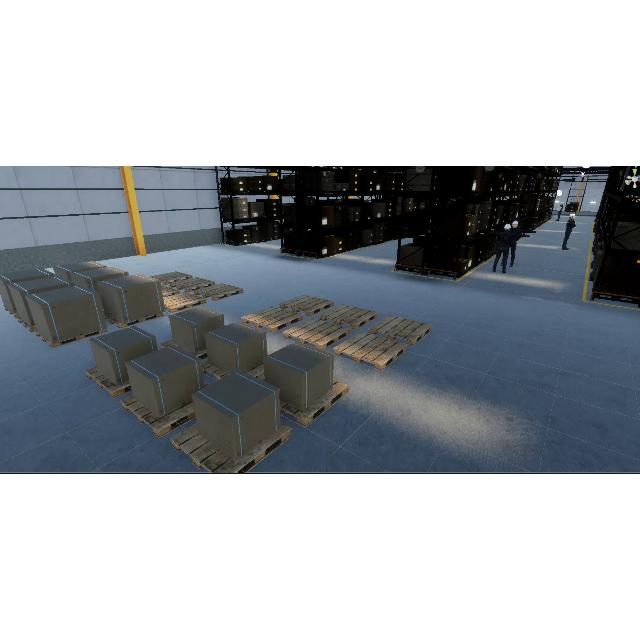wooden_pallet: (170, 422, 293, 474), (121, 393, 196, 438), (279, 380, 349, 427), (332, 331, 409, 371), (283, 318, 352, 352), (368, 314, 437, 347), (320, 302, 380, 330), (242, 305, 304, 332), (86, 366, 132, 400), (36, 329, 107, 348), (280, 293, 336, 317), (104, 312, 165, 329), (163, 291, 207, 314), (193, 283, 244, 301), (169, 277, 216, 293), (150, 270, 193, 286), (161, 285, 181, 298)
